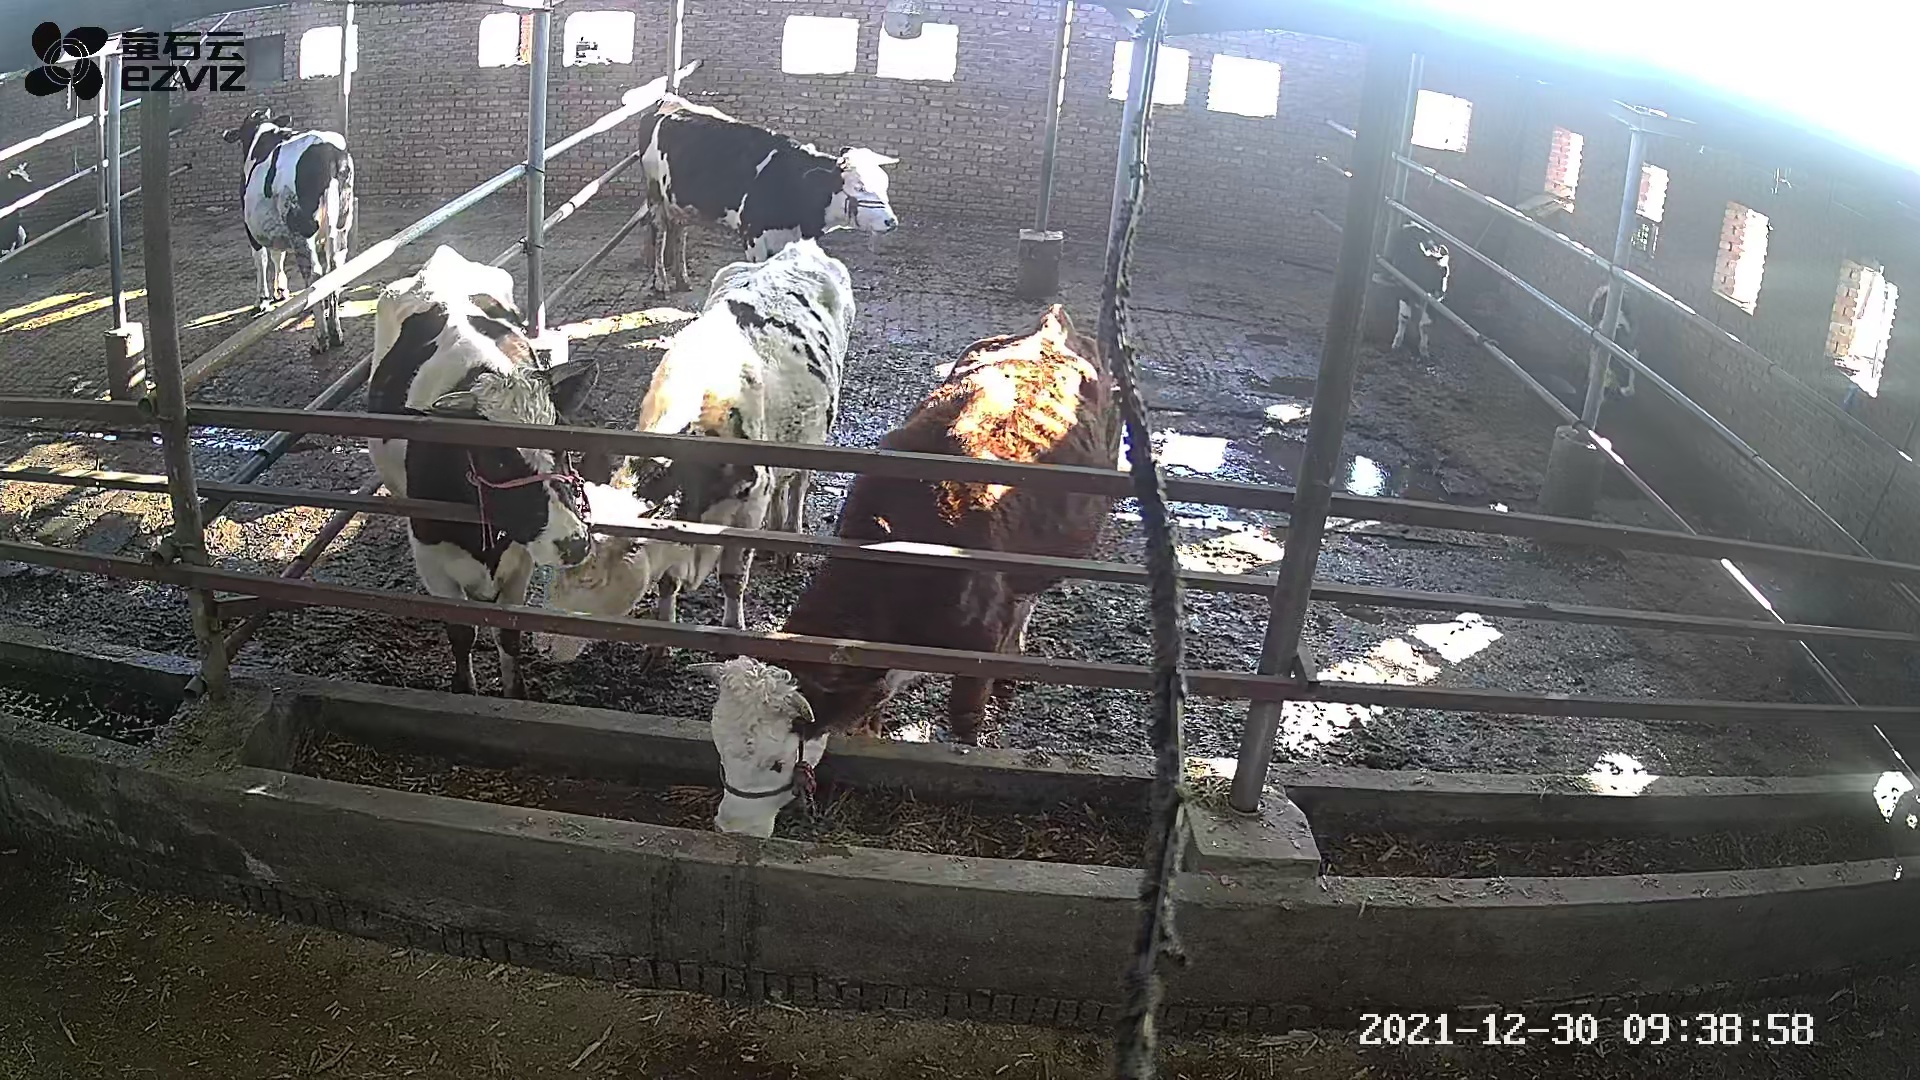cow: (683, 302, 1122, 843), (531, 236, 855, 665), (364, 243, 601, 702), (636, 88, 902, 302)
